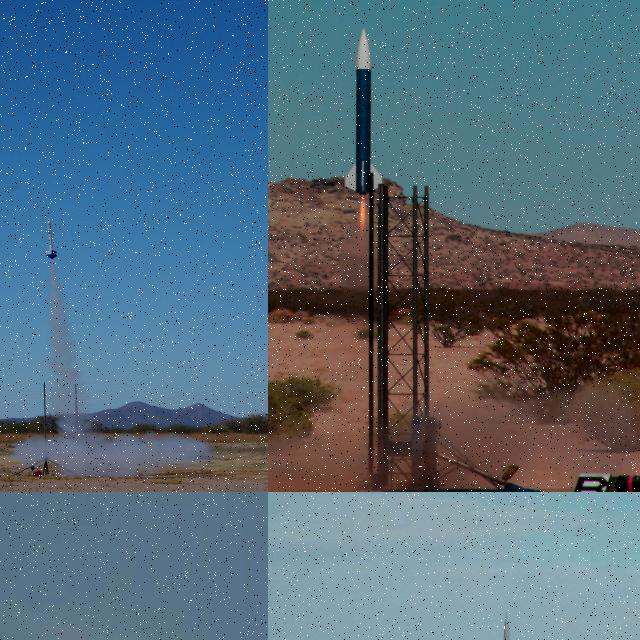Rocket: (344, 26, 384, 197), (498, 612, 519, 640), (46, 218, 58, 260), (177, 520, 179, 530)
